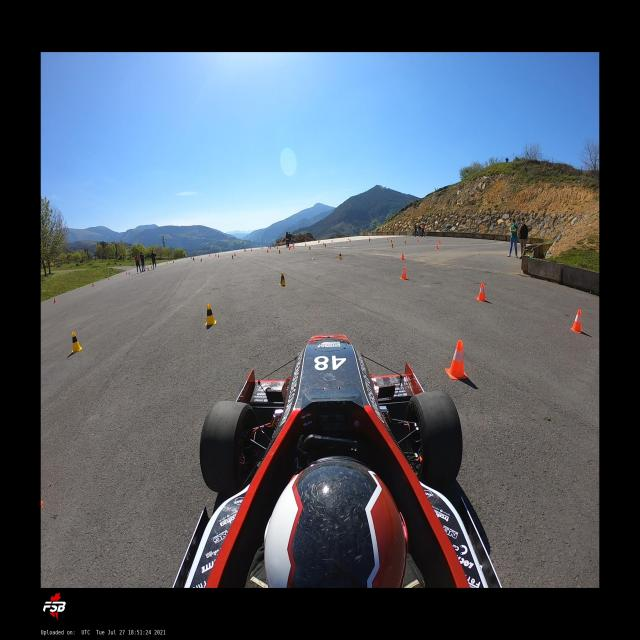orange_cone: (444, 340, 468, 380), (570, 310, 583, 334), (476, 283, 486, 301), (400, 266, 408, 280), (401, 252, 405, 260), (53, 298, 56, 304), (438, 239, 441, 244), (436, 243, 438, 249), (92, 283, 94, 286), (234, 253, 236, 256), (293, 246, 295, 249), (108, 278, 110, 280), (267, 250, 269, 252), (166, 261, 168, 263), (417, 240, 419, 242), (289, 247, 290, 250), (290, 245, 291, 248), (387, 237, 388, 240), (218, 255, 219, 257), (215, 254, 216, 256), (127, 272, 127, 274), (210, 254, 210, 256)
yellow_cone: (204, 304, 217, 326), (71, 331, 82, 354), (279, 272, 287, 286), (338, 252, 343, 259), (391, 243, 394, 249), (390, 239, 393, 244), (308, 246, 310, 251), (404, 240, 406, 244), (128, 272, 130, 274), (279, 250, 280, 254), (232, 256, 233, 259), (173, 260, 174, 263), (325, 244, 326, 247), (323, 242, 324, 245), (201, 259, 202, 261), (193, 258, 194, 260), (369, 240, 370, 242)
